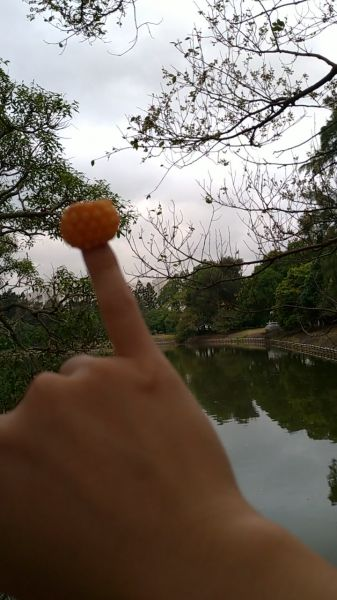eggs: (58, 199, 123, 248)
